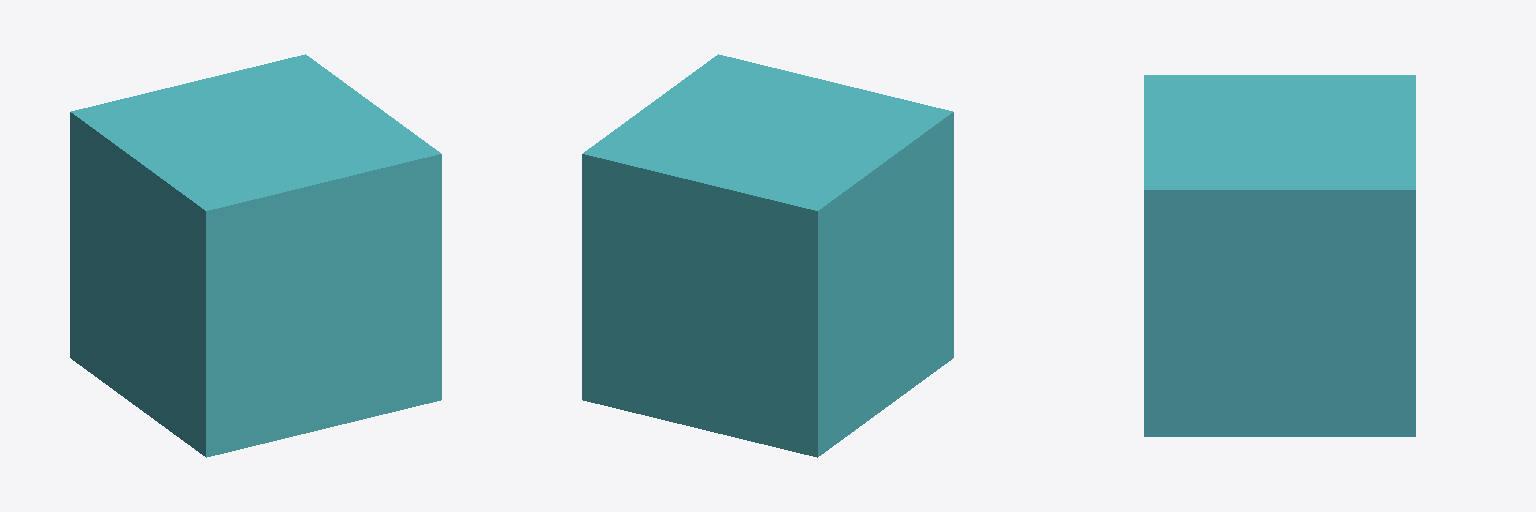
The picture shows the model from 3 angles: view 1: azimuth 30°, elevation 25°; view 2: azimuth 150°, elevation 25°; view 3: azimuth 270°, elevation 25°; orthographic projection.
Parts seen in each view (by area): view 1: Cube; view 2: Cube; view 3: Cube.
Boxes of the visible parts, <box> form: Cube: <box>70,54,441,457</box>; Cube: <box>582,54,953,457</box>; Cube: <box>1144,75,1415,436</box>.
Bounding box in the file's own units: 2 × 2 × 2.
1 materials, 1 textured.